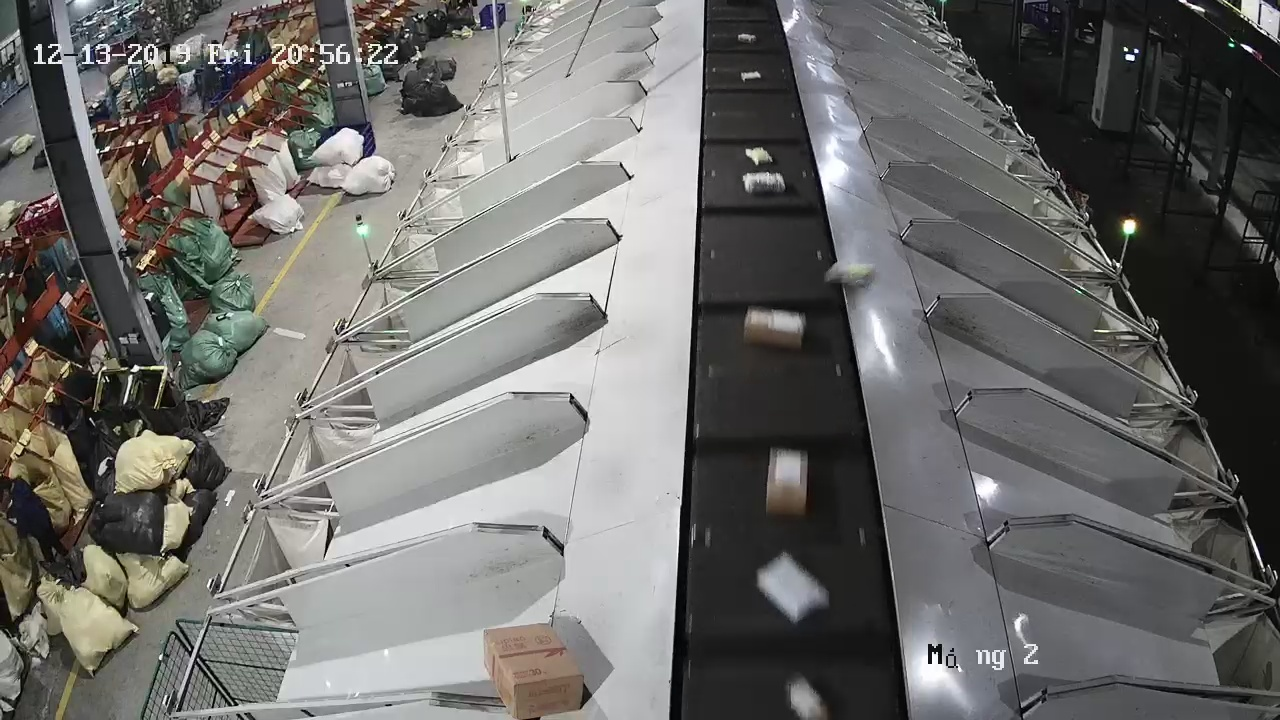parcel: (823, 259, 877, 290)
